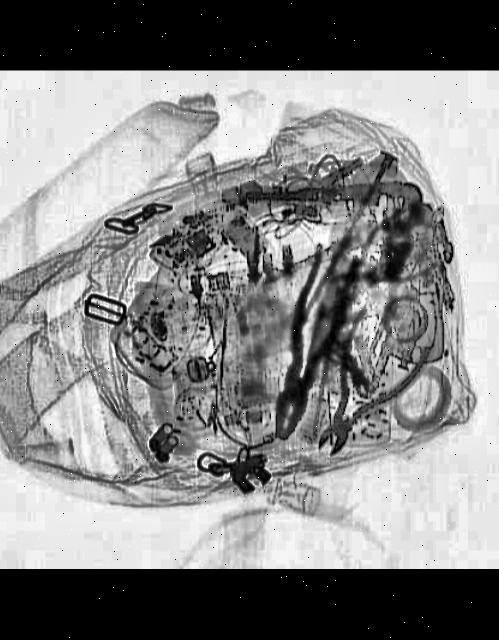Pliers: (284, 305, 434, 468), (252, 242, 362, 446)
